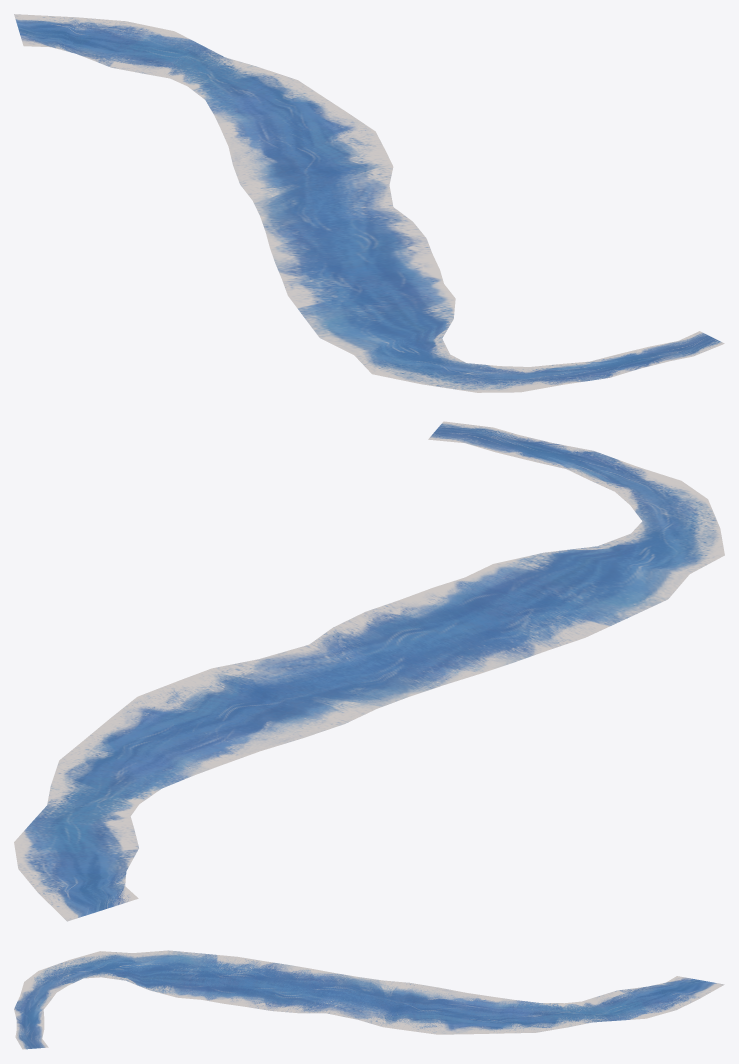
The model's file is water.fbx.
3 renders of one model, top to bottom at view 1: azimuth 30°, elevation 25°; view 2: azimuth 150°, elevation 25°; view 3: azimuth 270°, elevation 25°, orthographic. The views are drawn at different scales.
Parts seen in each view (by area): view 1: water; view 2: water; view 3: water.
Part boxes in pixels (bbox=[...]): water: bbox=[14, 14, 724, 392]; water: bbox=[14, 421, 724, 921]; water: bbox=[14, 950, 724, 1049].
Size of the model in its own units: 3538 by 0.00134 by 10722.
